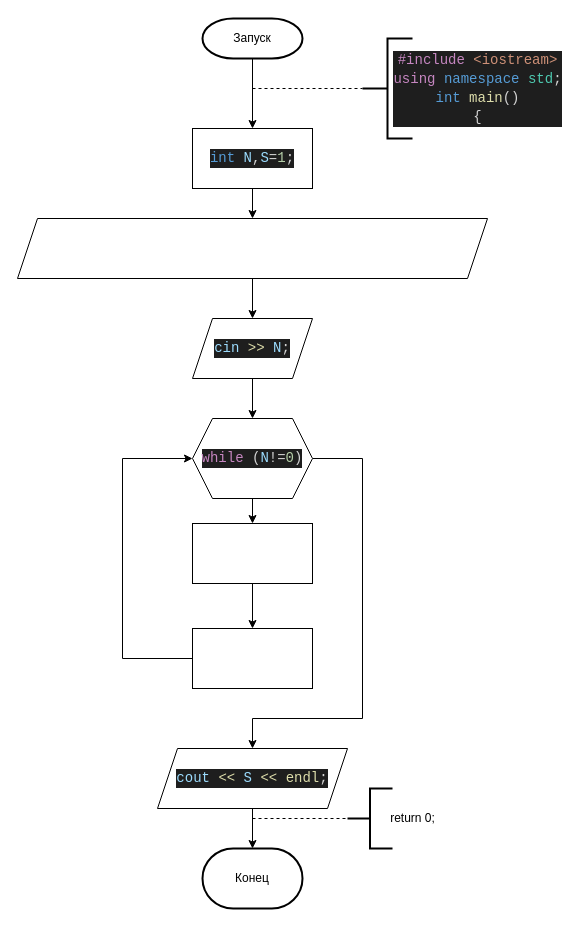
The diagram is 580 pixels wide and 926 high, and some of its shapes have lost their labels. Here are the shapes that lost their labels. From the top down, the centre of each, then its label:
point (252, 248): cout << "Введите значение N натуральных чисел!" << endl ;
point (252, 553): S = S * N;
point (252, 658): N = N - 1 ;
